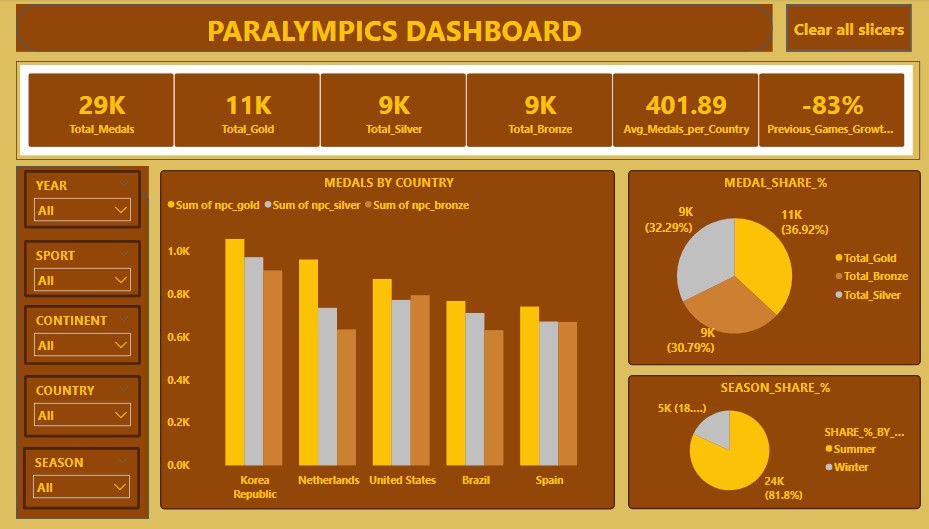

What the dashboard file says about the page in this screenshot:
{"tool":"powerbi","page":{"name":"HOME PAGE","canvas":[1400,800],"ordinal":0},"visuals":[{"type":"shape","box":[25.7,253.5,200.3,531],"z":0},{"type":"cardVisual","fields":{"Data":["Paralympics.Total_Medals1","Paralympics.Total_Gold","Paralympics.Total_Silver","Paralympics.Total_Bronze","Paralympics.Avg_Medals_per_Country","Paralympics.Previous_Games_Growth %"]},"box":[25.7,95.5,1361.4,148.8],"z":1000},{"type":"shape","box":[25.7,9.2,1139.1,71.7],"z":2000},{"type":"clusteredColumnChart","title":"MEDALS BY COUNTRY","fields":{"Y":["Sum(Paralympics.npc_gold)","Sum(Paralympics.npc_silver)","Sum(Paralympics.npc_bronze)"],"Category":["Paralympics.games_country"]},"box":[242.5,259.1,685.3,510.8],"z":3000},{"type":"slicer","fields":{"Values":["Paralympics.games_country"]},"box":[38.5,567.8,176.4,93.7],"z":3000,"group":"g1"},{"type":"pieChart","title":"MEDAL_SHARE_%","fields":{"Y":["My_DAX.Total_Gold","My_DAX.Total_Bronze","My_DAX.Total_Silver"]},"box":[946.2,259.1,440.9,294],"z":4000},{"type":"slicer","fields":{"Values":["Paralympics.sport"]},"box":[38.5,363.8,176.4,86.4],"z":4000,"group":"g1"},{"type":"actionButton","box":[1185,9.2,189.2,71.7],"z":5000},{"type":"slicer","fields":{"Values":["Games_Year_Table.games_year"]},"box":[38.5,259.1,176.4,88.2],"z":5000,"group":"g1"},{"type":"slicer","fields":{"Values":["Paralympics.games_continent"]},"box":[38.5,463,176.4,90],"z":6000,"group":"g1"},{"type":"pieChart","title":"SEASON_SHARE_%","fields":{"Category":["Paralympics.games_season"],"Y":["My_DAX.Total_Medals"]},"box":[946.2,567.7,440.9,202.1],"z":6000},{"type":"group","id":"g1","title":"Group 1","box":[36.7,259.1,178.2,510.8],"z":7000},{"type":"slicer","fields":{"Values":["Paralympics.games_season"]},"box":[36.7,676.2,176.4,93.7],"z":7000,"group":"g1"}]}

Visuals, with their boxes in screenshot pixels (x1, y1, x2, y2), scaled from the page's 1400x800 canvas onto the 929x529 screenshot:
shape: select_region(17, 168, 150, 519)
cardVisual - Paralympics.Total_Medals1 x Paralympics.Total_Gold: select_region(17, 63, 920, 162)
shape: select_region(17, 6, 773, 53)
"MEDALS BY COUNTRY" clusteredColumnChart: select_region(161, 171, 616, 509)
slicer - Paralympics.games_country: select_region(26, 375, 143, 437)
"MEDAL_SHARE_%" pieChart: select_region(628, 171, 920, 366)
slicer - Paralympics.sport: select_region(26, 241, 143, 298)
actionButton: select_region(786, 6, 912, 53)
slicer - Games_Year_Table.games_year: select_region(26, 171, 143, 230)
slicer - Paralympics.games_continent: select_region(26, 306, 143, 366)
"SEASON_SHARE_%" pieChart: select_region(628, 375, 920, 509)
"Group 1" group: select_region(24, 171, 143, 509)
slicer - Paralympics.games_season: select_region(24, 447, 141, 509)
